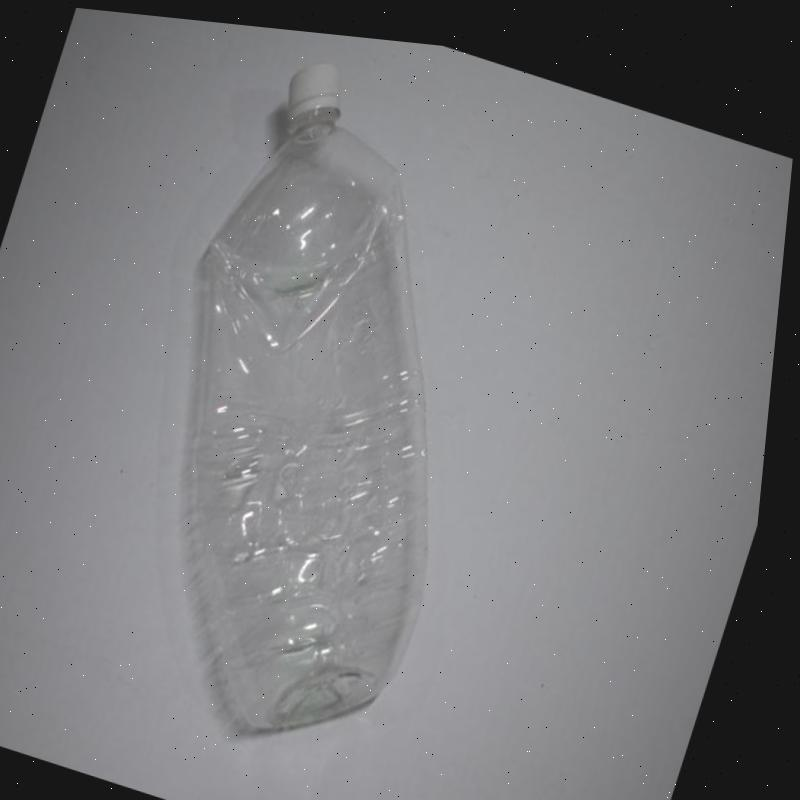botella: (74, 20, 582, 777)
